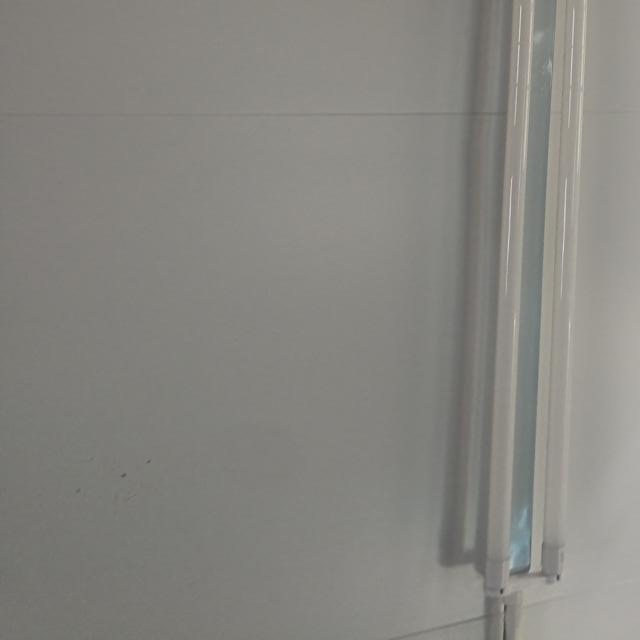fluorescent tube: (434, 0, 639, 618)
